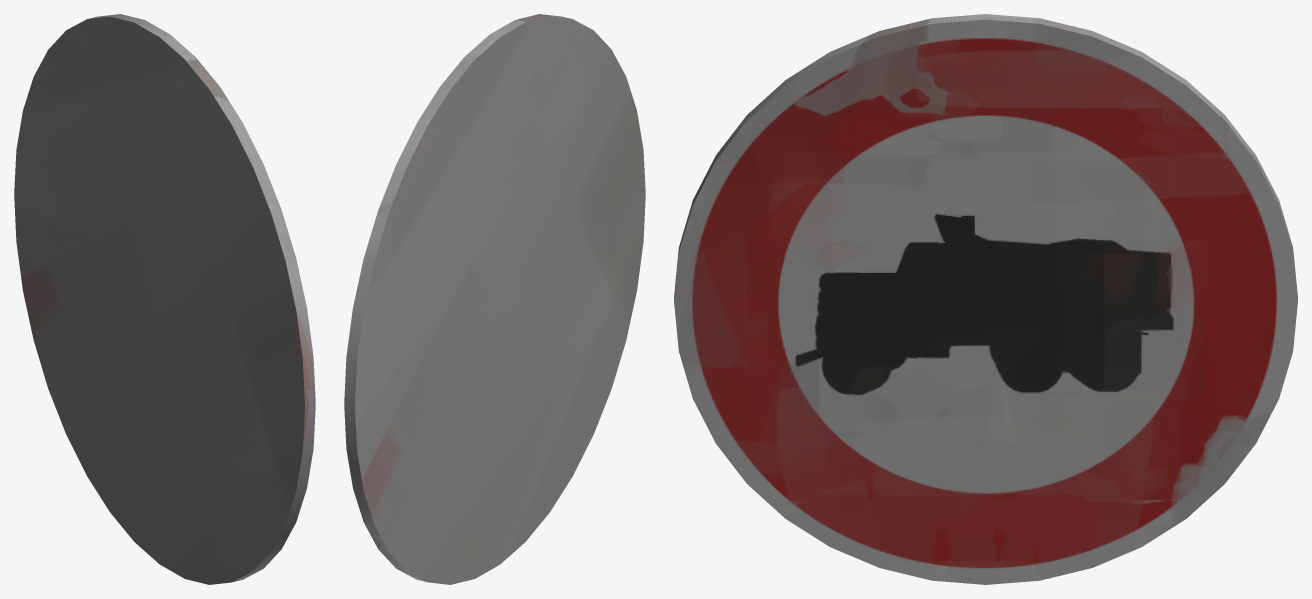
File: street_sign001.glb
3 views of the same model, side by side, from view 1: azimuth 30°, elevation 25°; view 2: azimuth 150°, elevation 25°; view 3: azimuth 270°, elevation 25° (orthographic). The views are drawn at different scales.
Visible parts, largest first — view 1: street_sign001; view 2: street_sign001; view 3: street_sign001.
Part boxes in pixels (x1,y1,x2,y2): street_sign001: [14, 14, 315, 584]; street_sign001: [344, 14, 645, 584]; street_sign001: [674, 14, 1297, 584].
Bounding box in the file's own units: 0.0187 × 0.8794 × 0.8794.
1 material, 1 textured.
